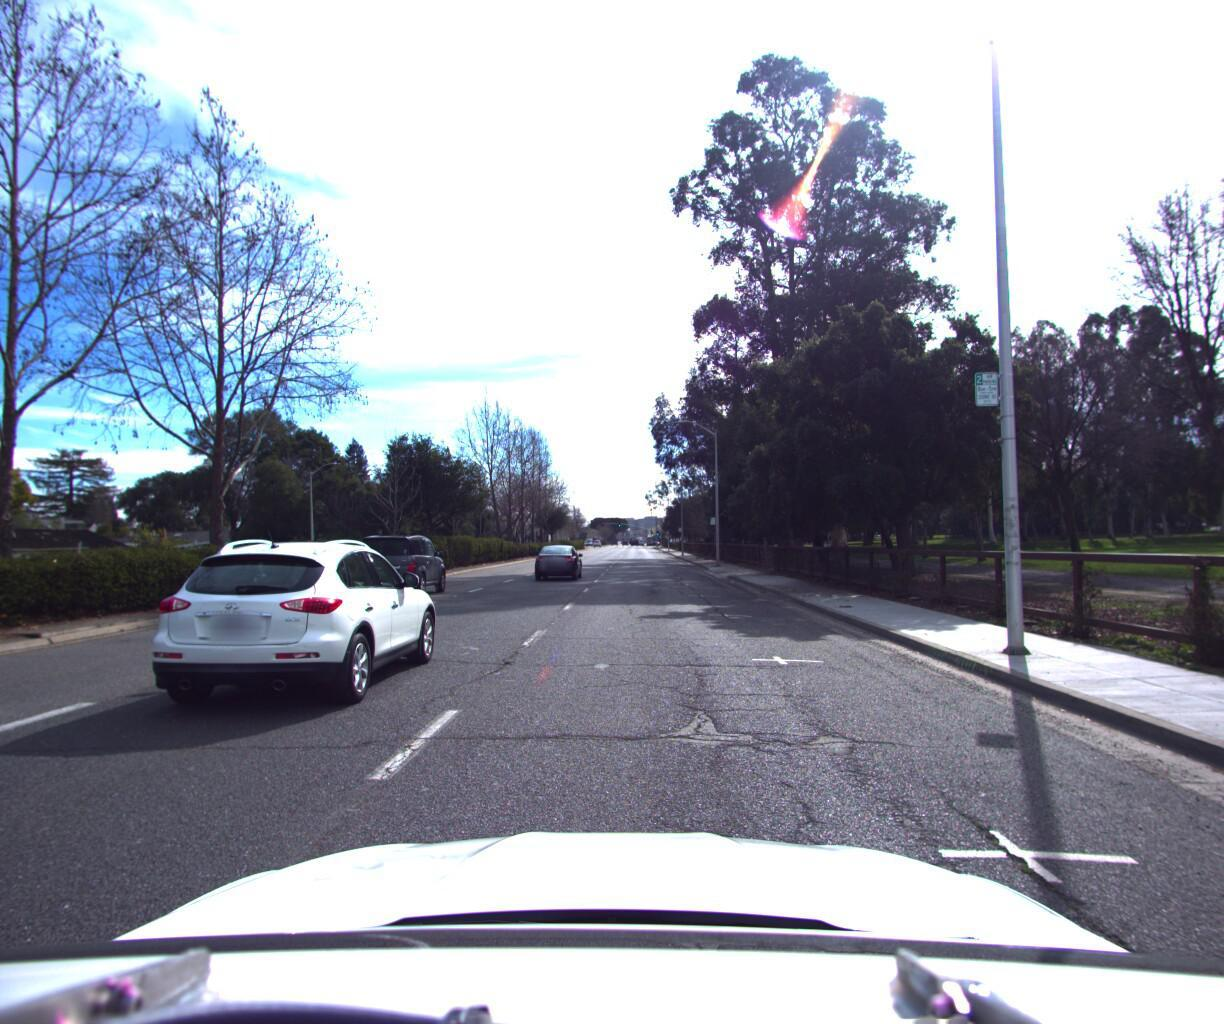car: (123, 530, 440, 721), (358, 534, 451, 599), (528, 538, 580, 577)
